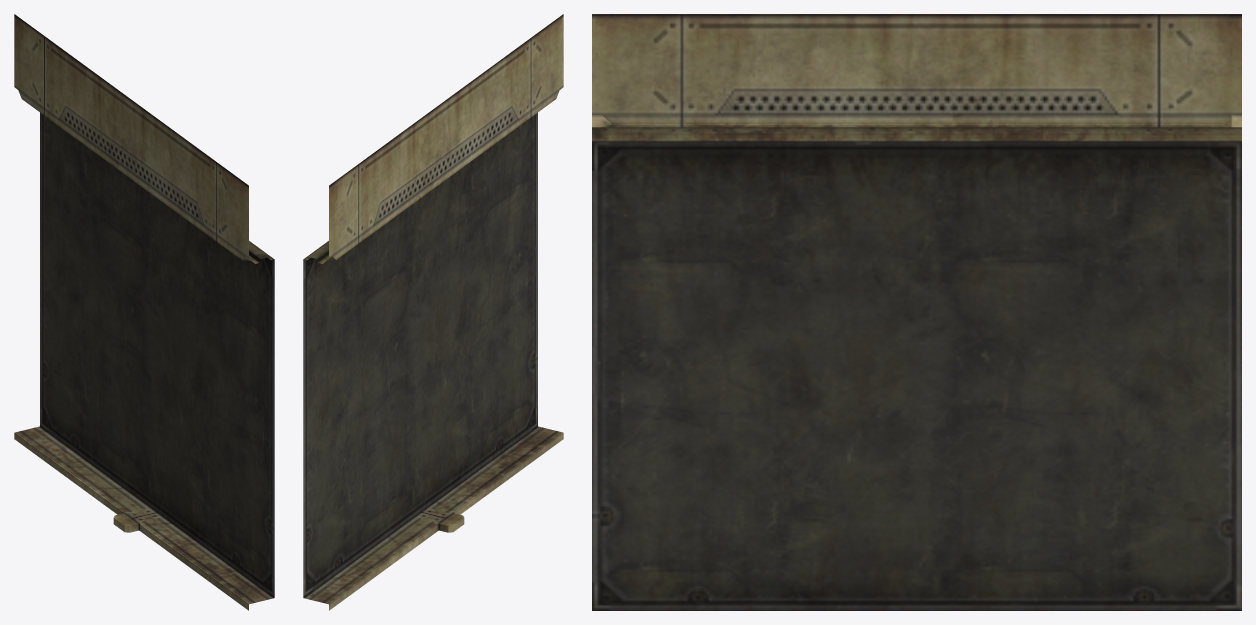
File: pplant_ground_blank.dae
3 views of the same model, side by side, from view 1: azimuth 30°, elevation 25°; view 2: azimuth 150°, elevation 25°; view 3: azimuth 270°, elevation 25° (orthographic). The views are drawn at different scales.
Parts seen in each view (by area): view 1: ground_blank; view 2: ground_blank; view 3: ground_blank.
Part boxes in pixels (x1,y1,x2,y2): ground_blank: [14, 14, 274, 610]; ground_blank: [303, 14, 563, 610]; ground_blank: [592, 14, 1241, 610].
Bounding box in the file's own units: 0.375 × 4 × 4.
